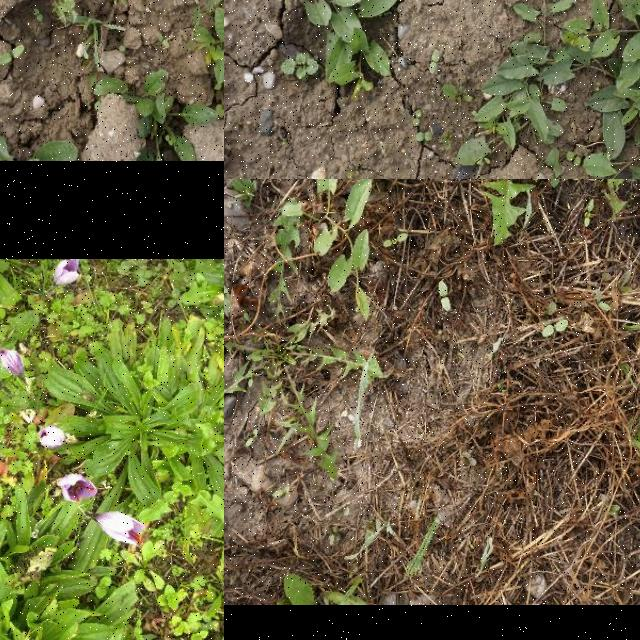flower: (90, 513, 148, 547), (54, 473, 98, 503), (53, 259, 79, 287), (36, 425, 66, 449), (0, 349, 24, 379)
